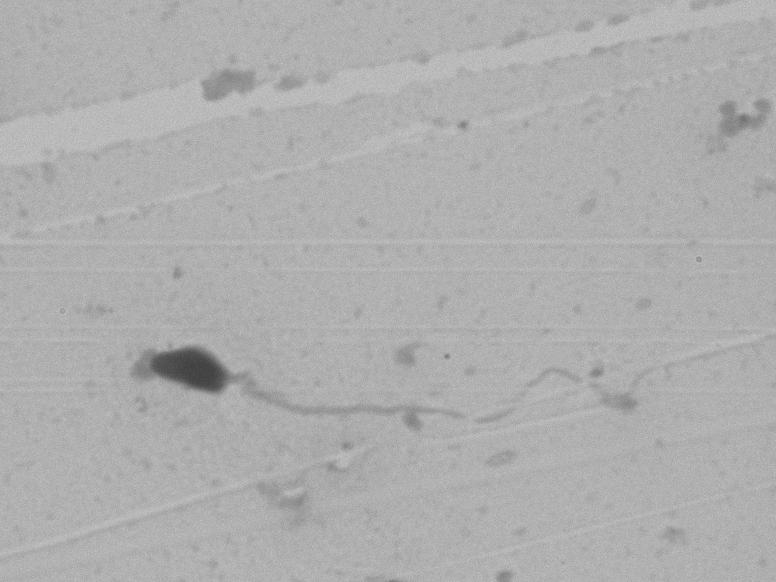Abnormal: (99, 303, 616, 460)
